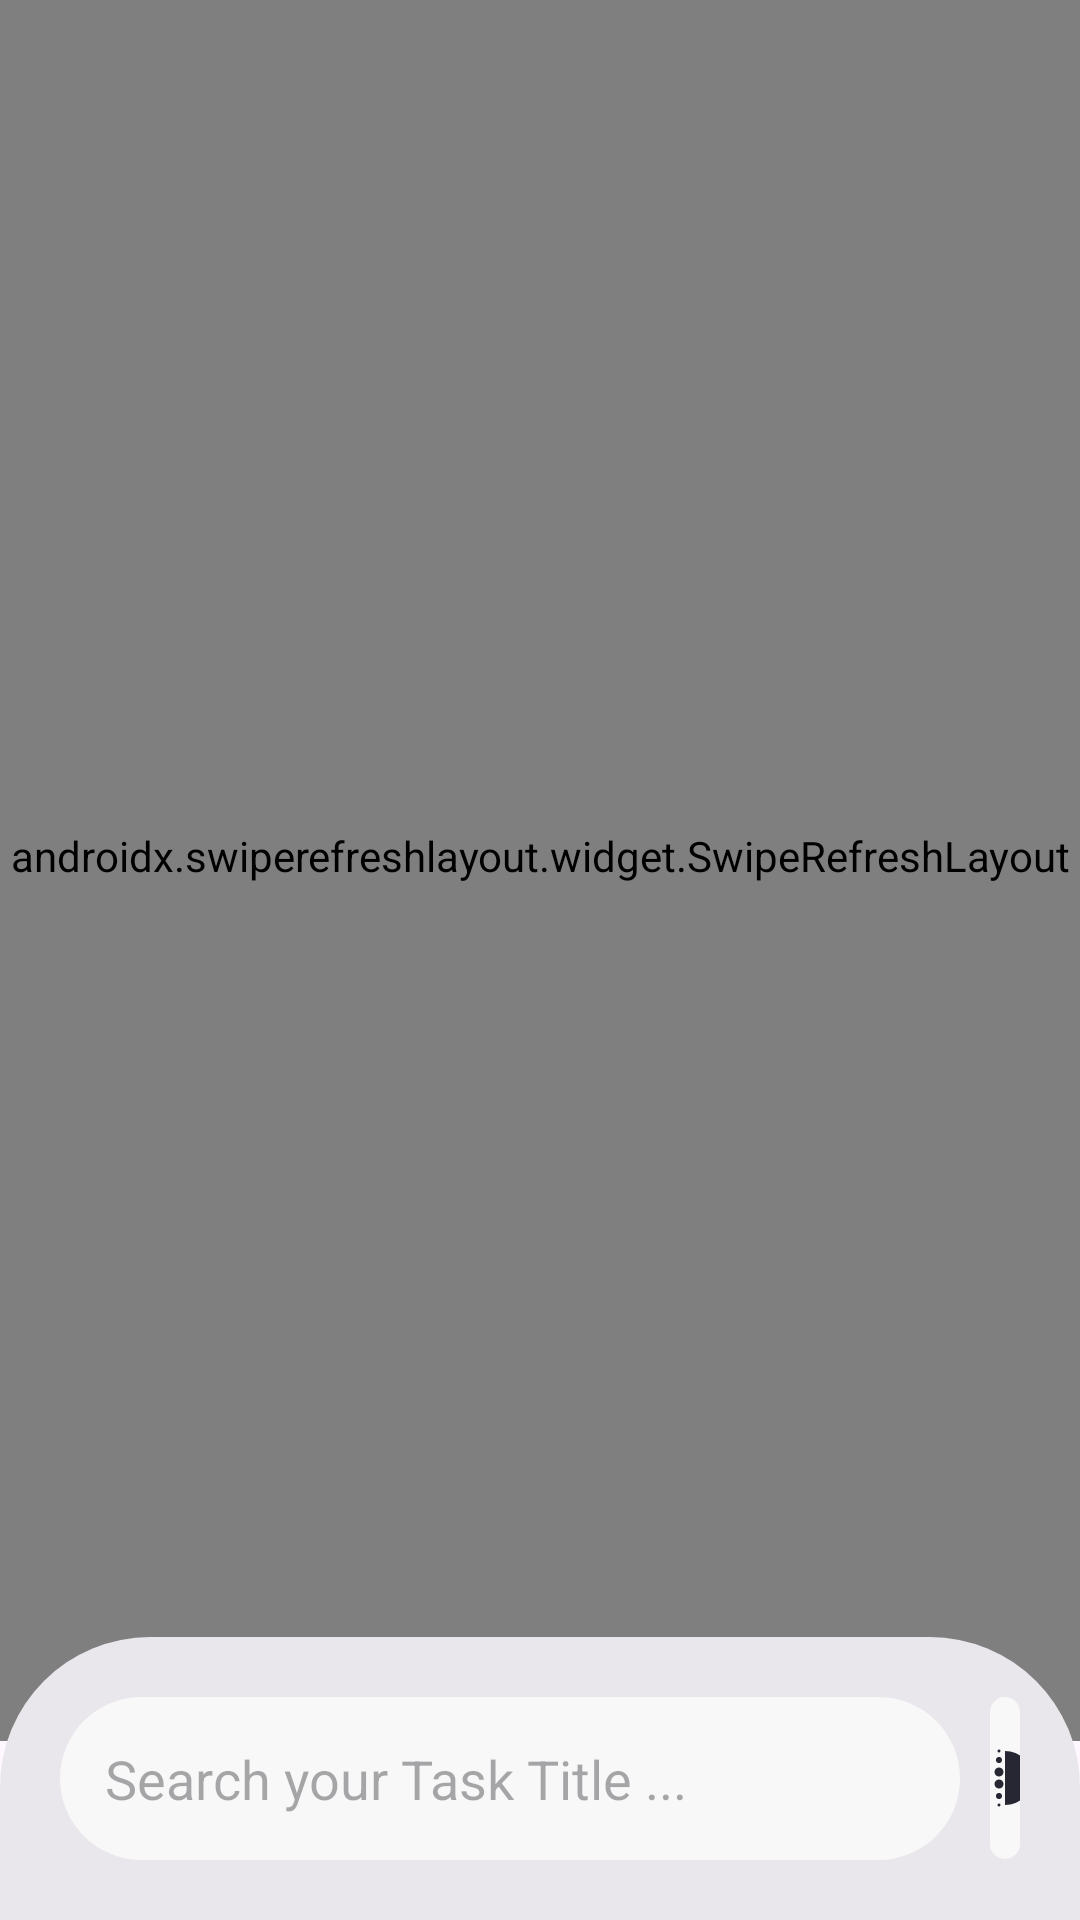

Icons on this 1080px×1920px Android screen, each with its box as [x1=x1, y1=y1, x2=x2, y2=y2]:
deblur: [x1=994, y1=1749, x2=1020, y2=1807]
